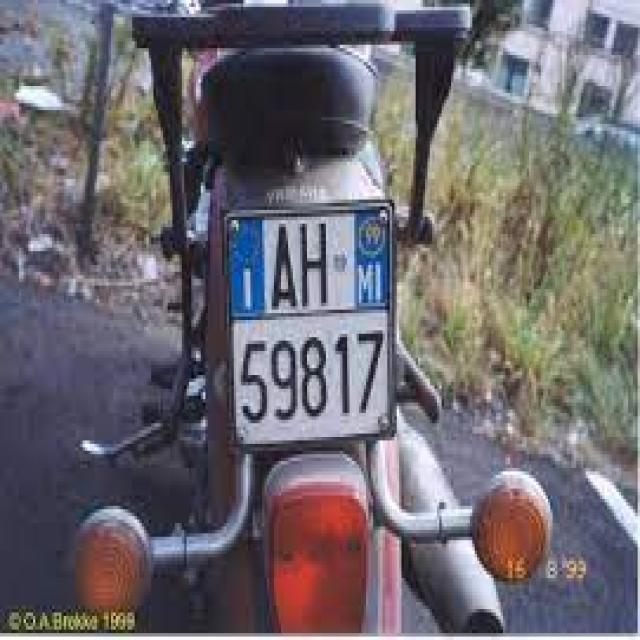license_plate: (220, 196, 399, 447)
